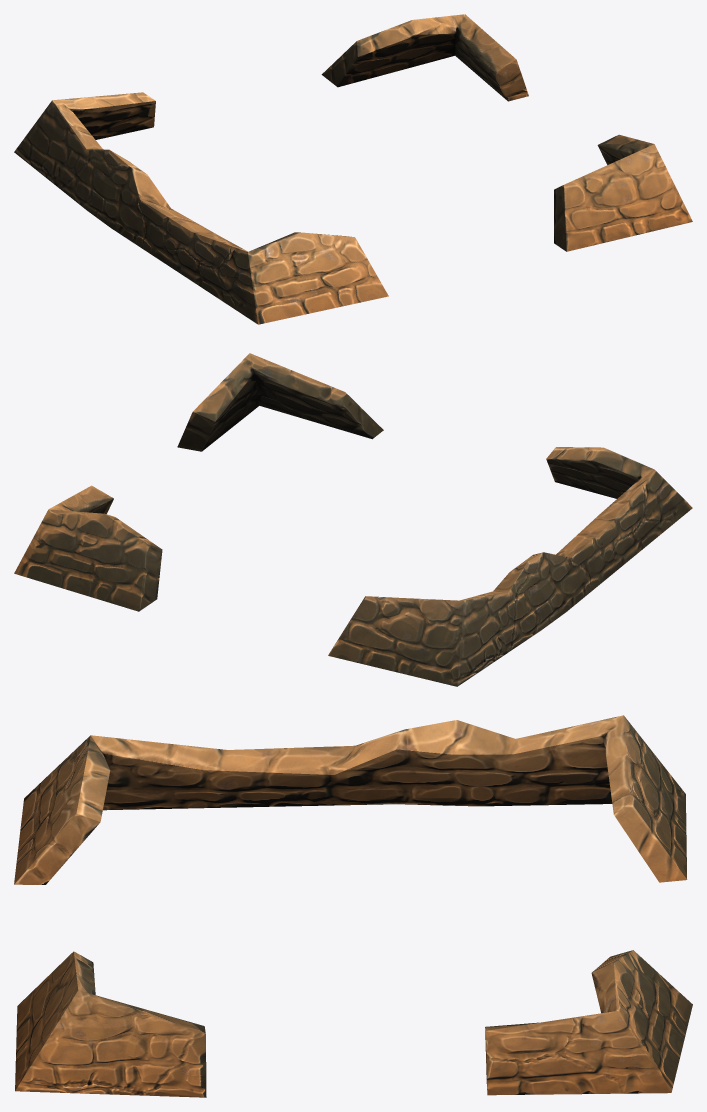
The model's file is Walls_square.fbx.
3 renders of one model, top to bottom at view 1: azimuth 30°, elevation 25°; view 2: azimuth 150°, elevation 25°; view 3: azimuth 270°, elevation 25°, orthographic. The views are drawn at different scales.
Parts seen in each view (by area): view 1: piramd_remnants; view 2: piramd_remnants; view 3: piramd_remnants.
Part boxes in pixels (bbox=[...]): piramd_remnants: bbox=[14, 14, 692, 324]; piramd_remnants: bbox=[14, 353, 692, 686]; piramd_remnants: bbox=[14, 715, 692, 1097].
Bounding box in the file's own units: 15.44 × 2.12 × 14.43.
